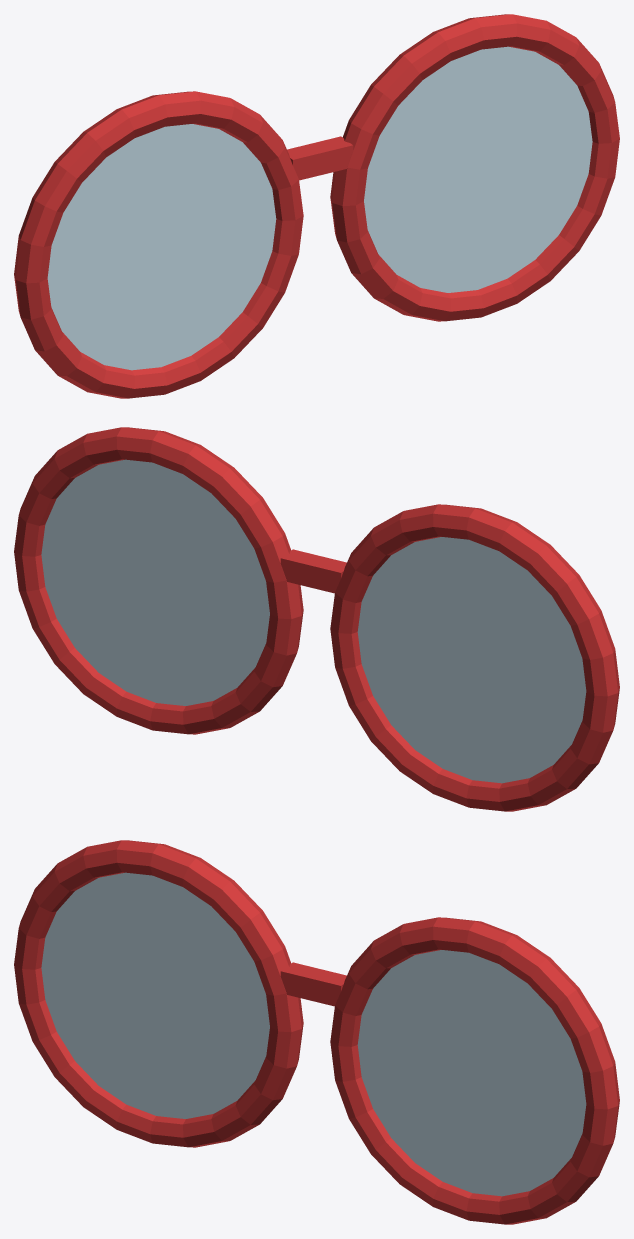
File: giant_glasses_sign.glb
3 views of the same model, one above another, from view 1: azimuth 30°, elevation 25°; view 2: azimuth 150°, elevation 25°; view 3: azimuth 330°, elevation 25° (orthographic).
Parts seen in each view (by area): view 1: lens_lens, rim_frame_d23a3a, bridge_frame_d23a3a; view 2: lens_lens, rim_frame_d23a3a, bridge_frame_d23a3a; view 3: lens_lens, rim_frame_d23a3a, bridge_frame_d23a3a.
Part boxes in pixels (x1=…): lens_lens: x1=47, y1=46, x2=592, y2=370; rim_frame_d23a3a: x1=14, y1=14, x2=619, y2=398; bridge_frame_d23a3a: x1=287, y1=136, x2=353, y2=180; lens_lens: x1=41, y1=459, x2=586, y2=783; rim_frame_d23a3a: x1=14, y1=427, x2=619, y2=811; bridge_frame_d23a3a: x1=280, y1=549, x2=346, y2=593; lens_lens: x1=41, y1=872, x2=586, y2=1196; rim_frame_d23a3a: x1=14, y1=840, x2=619, y2=1224; bridge_frame_d23a3a: x1=280, y1=962, x2=346, y2=1006.
Size of the model in its own units: 4 by 1.9 by 0.2.
